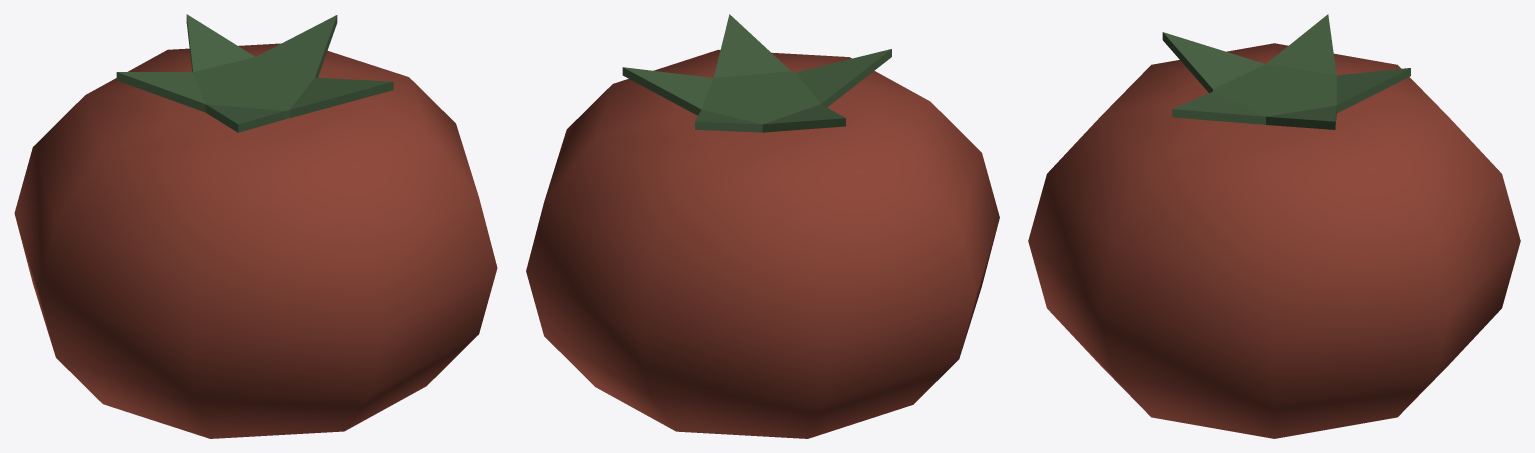
File: SM_TomatoWhole.fbx
3 views of the same model, side by side, from view 1: azimuth 30°, elevation 25°; view 2: azimuth 150°, elevation 25°; view 3: azimuth 270°, elevation 25° (orthographic).
Parts seen in each view (by area): view 1: TomatoBase, TomatLeaf; view 2: TomatoBase, TomatLeaf; view 3: TomatoBase, TomatLeaf.
Part boxes in pixels (<box>): TomatoBase: <box>14,43,497,438</box>; TomatLeaf: <box>116,14,393,132</box>; TomatoBase: <box>526,49,999,438</box>; TomatLeaf: <box>622,14,891,132</box>; TomatoBase: <box>1028,43,1520,438</box>; TomatLeaf: <box>1162,14,1410,129</box>.
Size of the model in its own units: 10.4 by 7.45 by 10.4.
